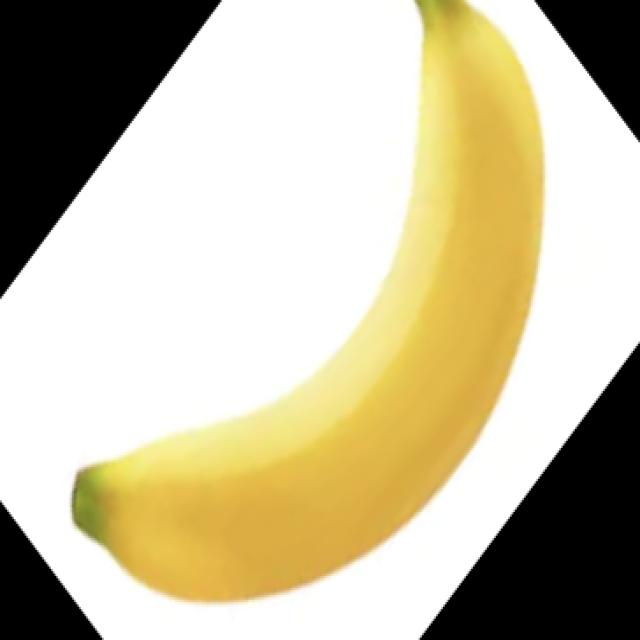god quality banana: (74, 2, 543, 601)
